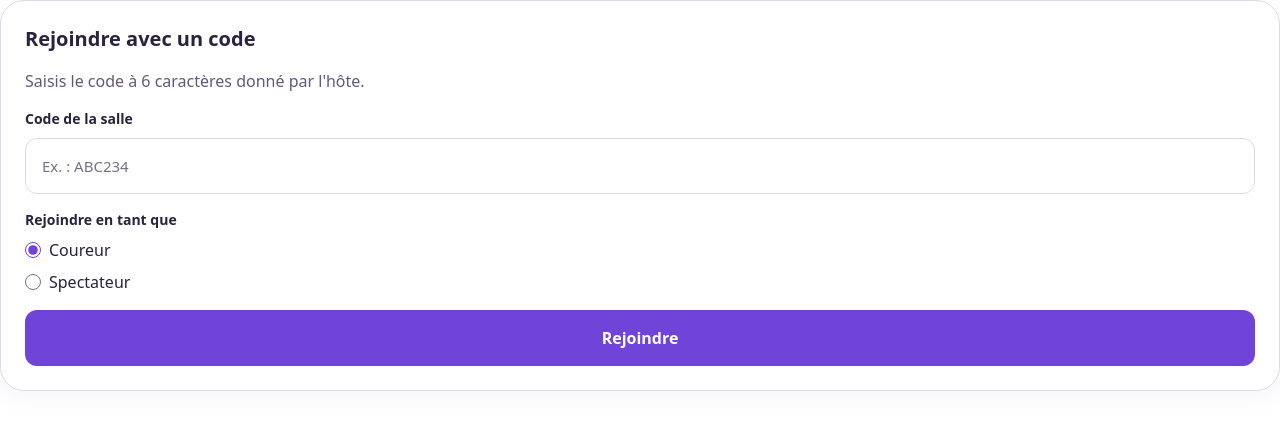
Test: formulaire « rejoindre avec un code » (fr) › refuse un code incomplet ou aux caractères exclus : message traduit, aucun envoi
In the field labelled "Code de la salle": (640, 166) [25,138,1255,194], type "ABC"
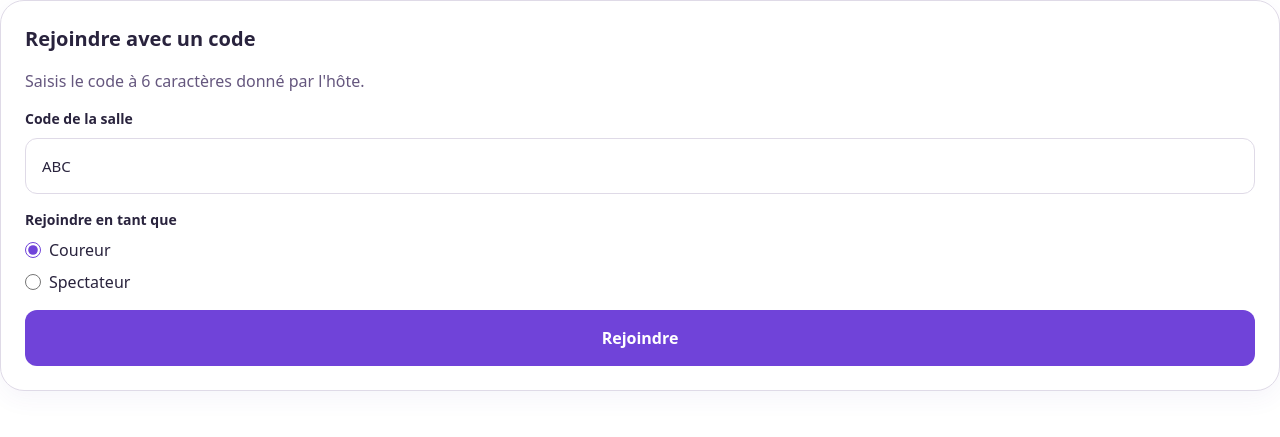
Click the button "Rejoindre": (640, 338) [25,310,1255,366]
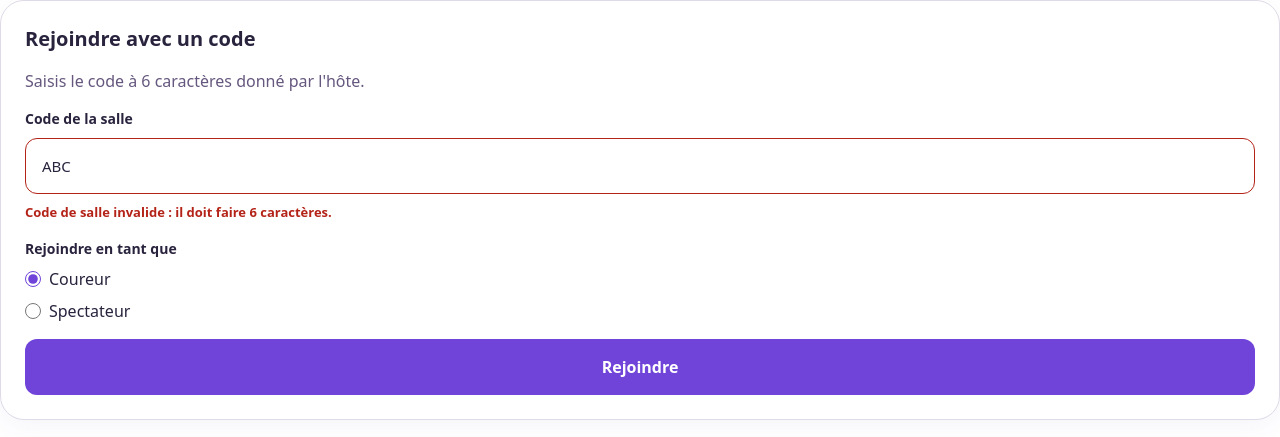
Check: the text "Code de salle invalide : il doit faire 6 caractères." is shown, box [25,203,332,221]
// 0, O, 1, I et L n'existent pas dans l'alphabet des codes (H-5).
Replace the text in the field labelled "Code de la salle" with "ABC0O1": (640, 166) [25,138,1255,194]
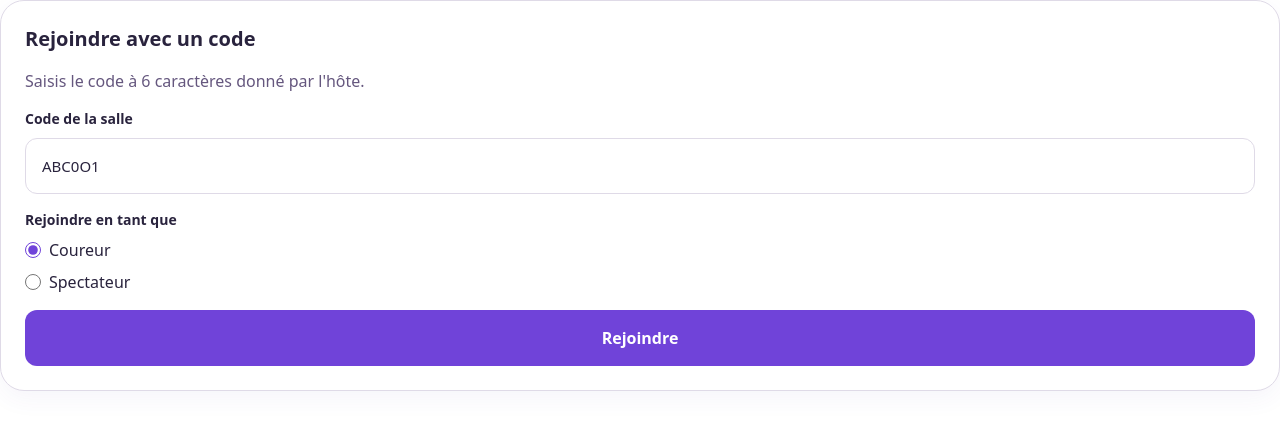
Check: the text "Code de salle invalide : il doit faire 6 caractères." is gone
Click the button "Rejoindre": (640, 338) [25,310,1255,366]
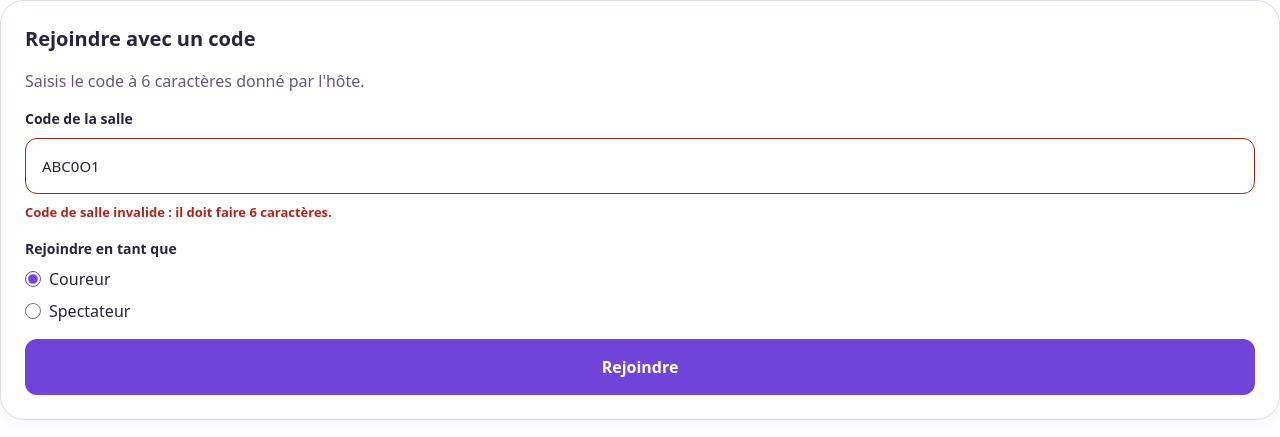
Check: the text "Code de salle invalide : il doit faire 6 caractères." is shown, box [25,203,332,221]
